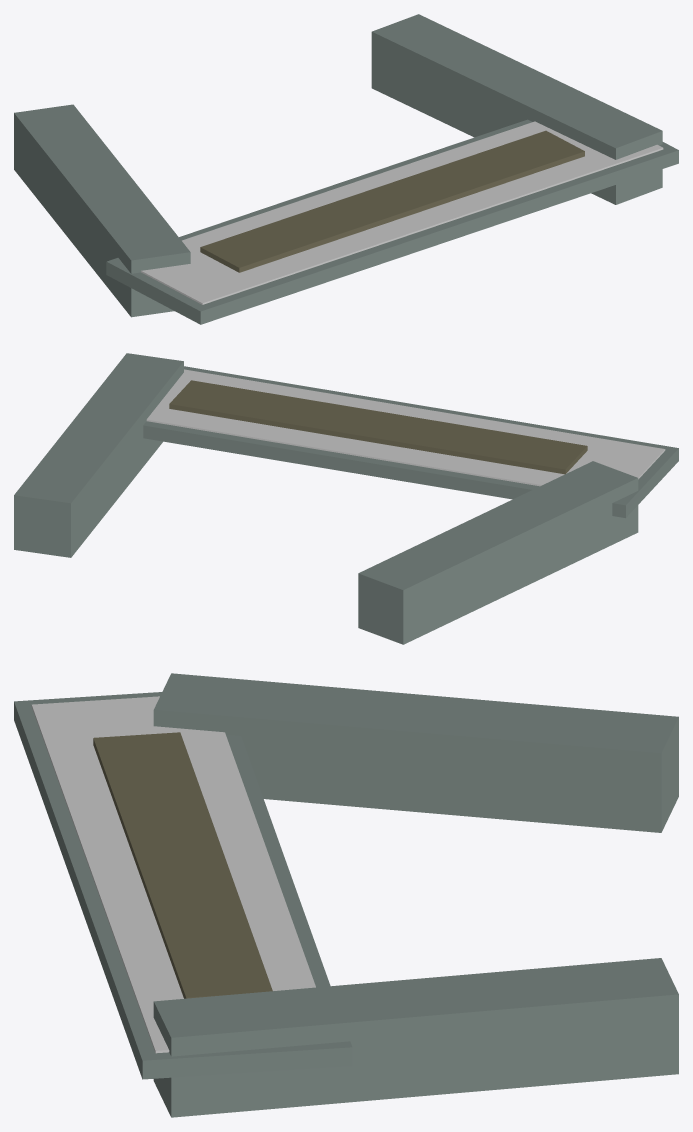
The model's file is SM_CartelEstacion_v3_Caido_LOD1.fbx.
The picture shows the model from 3 angles, top to bottom: view 1: azimuth 30°, elevation 25°; view 2: azimuth 150°, elevation 25°; view 3: azimuth 270°, elevation 25°; orthographic projection. The views are drawn at different scales.
Visible parts, largest first — view 1: SM_cartel_estacion_v3_LOD1; view 2: SM_cartel_estacion_v3_LOD1; view 3: SM_cartel_estacion_v3_LOD1.
Boxes of the visible parts, left/top/right/bottom form: SM_cartel_estacion_v3_LOD1: left=14, top=14, right=678, bottom=324; SM_cartel_estacion_v3_LOD1: left=14, top=353, right=678, bottom=644; SM_cartel_estacion_v3_LOD1: left=14, top=673, right=678, bottom=1117.
Bounding box in the file's own units: 3.41 × 0.34 × 2.57.
